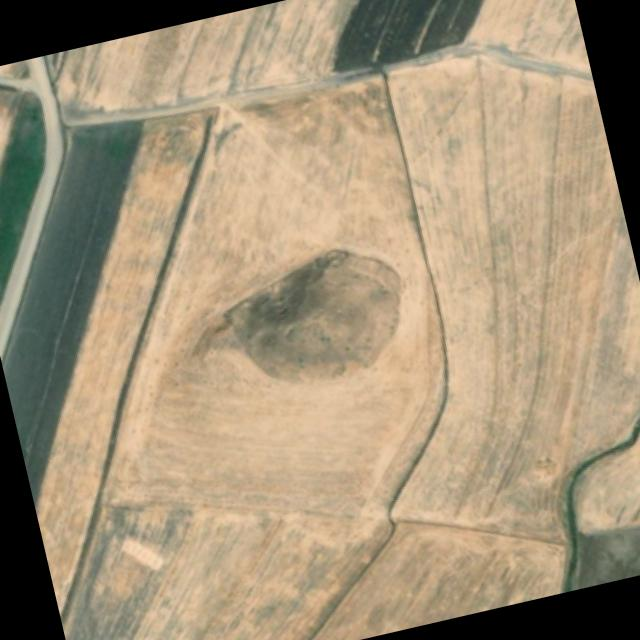ruins: (210, 251, 420, 393)
vegetation: (355, 0, 490, 63), (2, 131, 54, 210)
